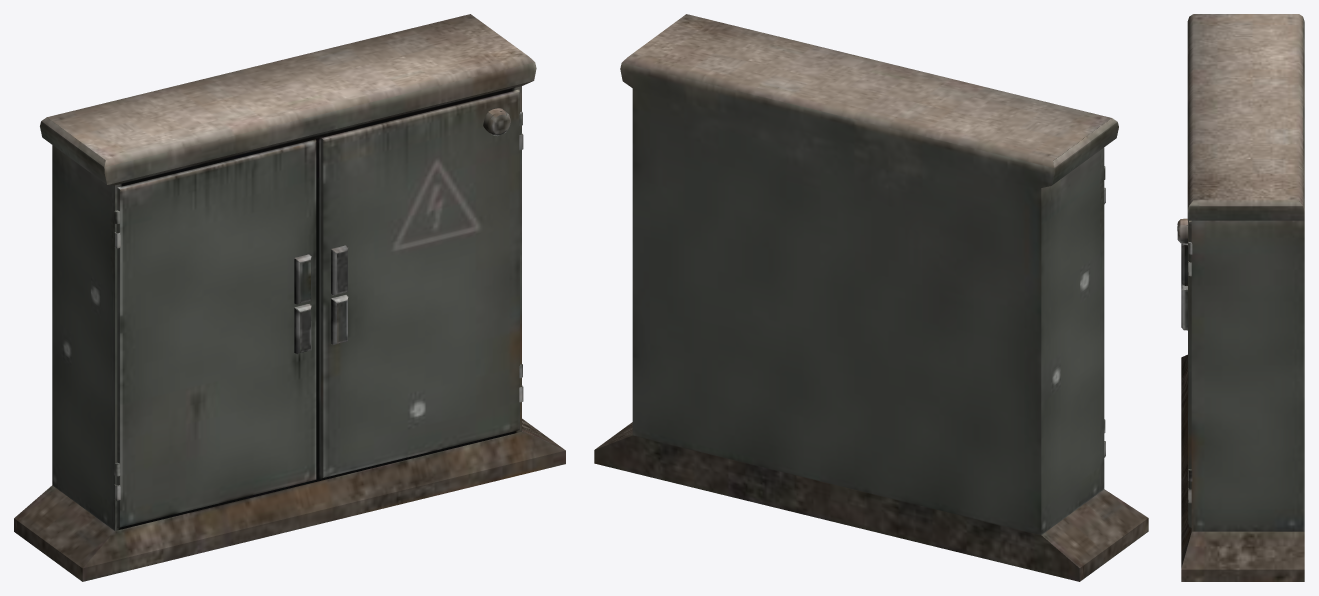
Rendered from electrical_box_free.glb.
3 views of the same model, side by side, from view 1: azimuth 30°, elevation 25°; view 2: azimuth 150°, elevation 25°; view 3: azimuth 270°, elevation 25° (orthographic). The views are drawn at different scales.
Parts seen in each view (by area): view 1: electrical_box_free.001; view 2: electrical_box_free.001; view 3: electrical_box_free.001.
Part boxes in pixels (left/top/right/bottom): electrical_box_free.001: left=14, top=14, right=565, bottom=581; electrical_box_free.001: left=594, top=14, right=1148, bottom=581; electrical_box_free.001: left=1177, top=14, right=1304, bottom=581.
Bounding box in the file's own units: 2 × 1.62 × 0.5062.
Materials: 1 (1 with a texture image).
